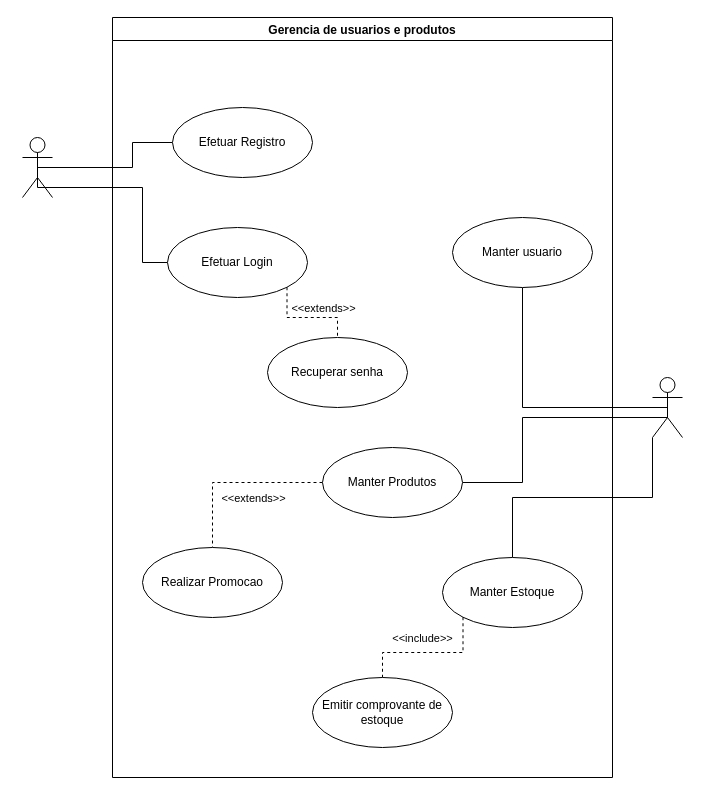
Image size: 722x795. Some labels were removed from this diagram. The centre of each missing label's shape, as x and y in pixels:
Administrador: the point at 667,407
Usuario: the point at 37,167
